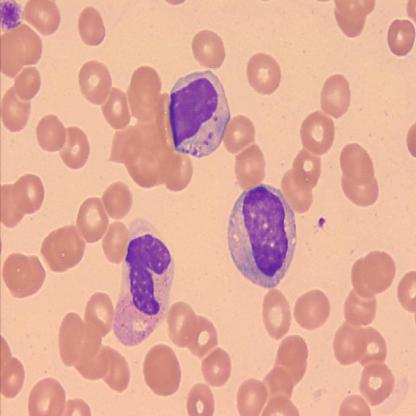Atypical lymphocyte: (113, 219, 175, 346), (228, 182, 297, 288), (170, 68, 230, 157)
